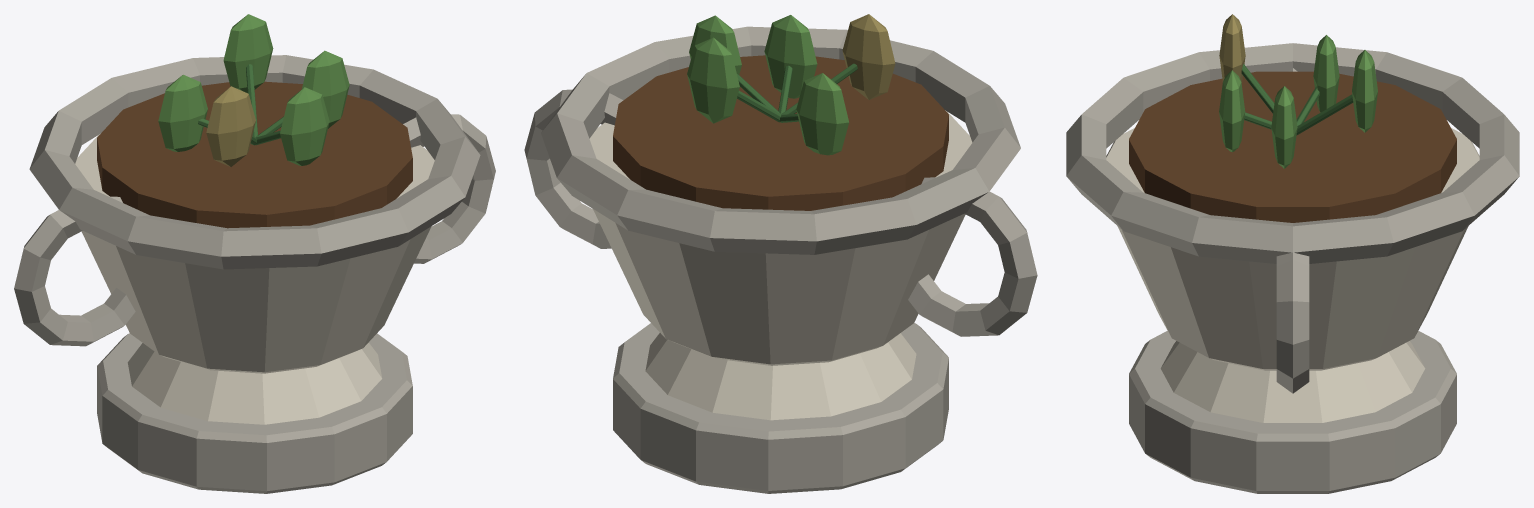
The model's file is runtime.glb.
3 views of the same model, side by side, from view 1: azimuth 30°, elevation 25°; view 2: azimuth 150°, elevation 25°; view 3: azimuth 270°, elevation 25° (orthographic). The views are drawn at different scales.
Visible parts, largest first — view 1: eiffel-historic-urn-v07_nocol; view 2: eiffel-historic-urn-v07_nocol; view 3: eiffel-historic-urn-v07_nocol.
Part boxes in pixels (<box>): eiffel-historic-urn-v07_nocol: <box>14,14,495,493</box>; eiffel-historic-urn-v07_nocol: <box>524,14,1037,493</box>; eiffel-historic-urn-v07_nocol: <box>1066,14,1519,493</box>.
Bounding box in the file's own units: 1.72 × 1.3 × 1.36.
